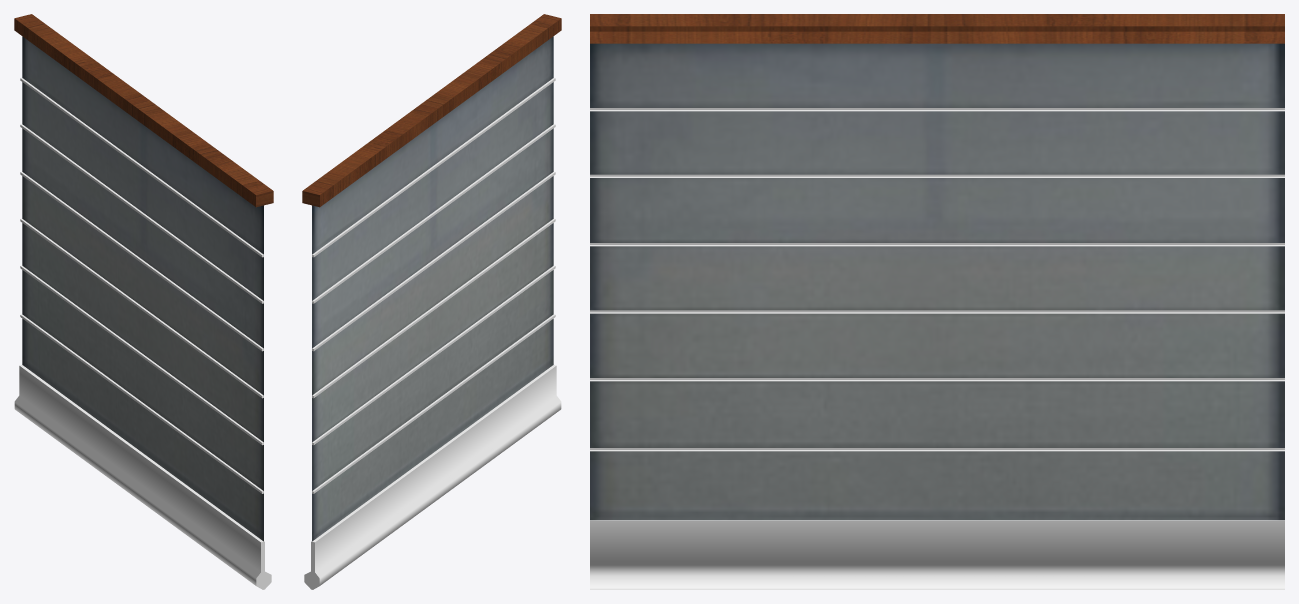
The model's file is Oriental Curtain.FBX.
3 views of the same model, side by side, from view 1: azimuth 30°, elevation 25°; view 2: azimuth 150°, elevation 25°; view 3: azimuth 270°, elevation 25° (orthographic). The views are drawn at different scales.
Visible parts, largest first — view 1: Oriental_Persianas; view 2: Oriental_Persianas; view 3: Oriental_Persianas.
Part boxes in pixels (bbox=[...]): Oriental_Persianas: bbox=[14, 14, 273, 589]; Oriental_Persianas: bbox=[302, 14, 561, 589]; Oriental_Persianas: bbox=[590, 14, 1284, 589].
Bounding box in the file's own units: 5.62 × 122 × 134.
3 materials, 2 textured.
